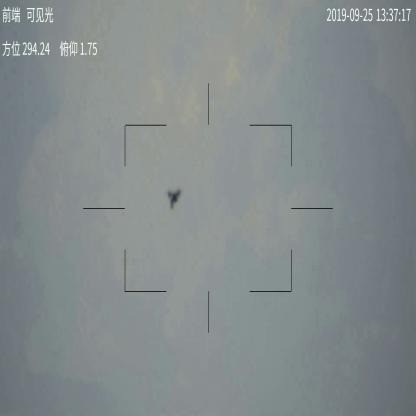uav: (164, 186, 182, 208)
